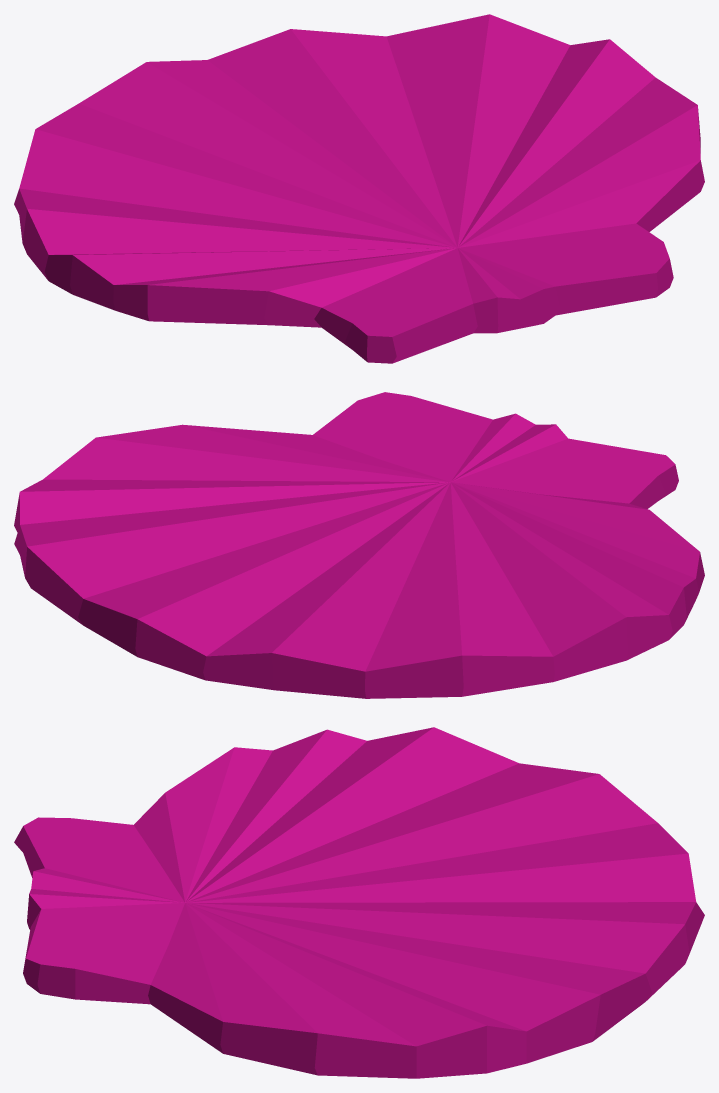
File: shell.obj
3 views of the same model, one above another, from view 1: azimuth 30°, elevation 25°; view 2: azimuth 150°, elevation 25°; view 3: azimuth 270°, elevation 25° (orthographic). The views are drawn at different scales.
Parts seen in each view (by area): view 1: Cube_Cube.001; view 2: Cube_Cube.001; view 3: Cube_Cube.001.
Boxes of the visible parts, x1=… form: Cube_Cube.001: x1=14, y1=14, x2=704, y2=363; Cube_Cube.001: x1=14, y1=392, x2=704, y2=698; Cube_Cube.001: x1=14, y1=727, x2=704, y2=1078.
Size of the model in its own units: 2.53 by 0.178 by 2.33.
